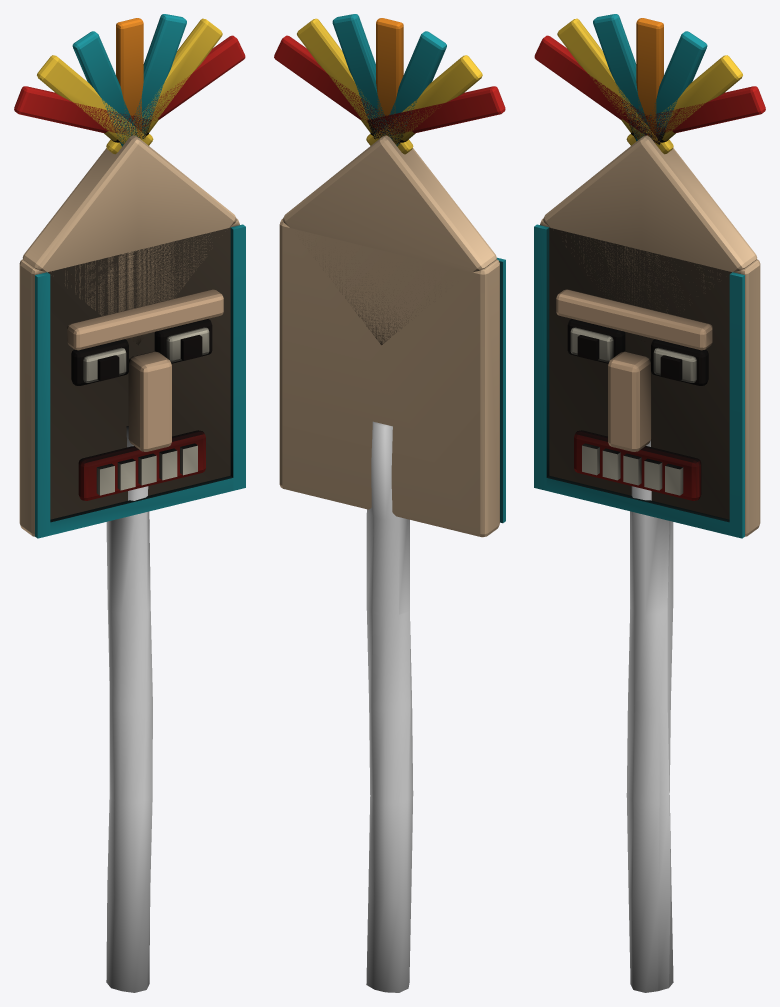
The model's file is HeroTikiMask_0.fbx.
3 views of the same model, side by side, from view 1: azimuth 30°, elevation 25°; view 2: azimuth 150°, elevation 25°; view 3: azimuth 330°, elevation 25° (orthographic).
Visible parts, largest first — view 1: HeroTikiMask_0__Totem, HeroTikiMask_0__Paint, HeroTikiMask_0__Wood; view 2: HeroTikiMask_0__Totem, HeroTikiMask_0__Wood, HeroTikiMask_0__Paint; view 3: HeroTikiMask_0__Totem, HeroTikiMask_0__Paint, HeroTikiMask_0__Wood.
Part boxes in pixels (x1,y1,x2,y2): HeroTikiMask_0__Totem: [19, 135, 239, 536]; HeroTikiMask_0__Paint: [14, 14, 245, 538]; HeroTikiMask_0__Wood: [67, 289, 223, 992]; HeroTikiMask_0__Totem: [279, 135, 499, 537]; HeroTikiMask_0__Wood: [366, 421, 413, 992]; HeroTikiMask_0__Paint: [274, 14, 505, 523]; HeroTikiMask_0__Totem: [540, 135, 760, 536]; HeroTikiMask_0__Paint: [534, 14, 765, 538]; HeroTikiMask_0__Wood: [556, 289, 712, 992].
Bounding box in the file's own units: 0.5481 × 2.21 × 0.1666.
